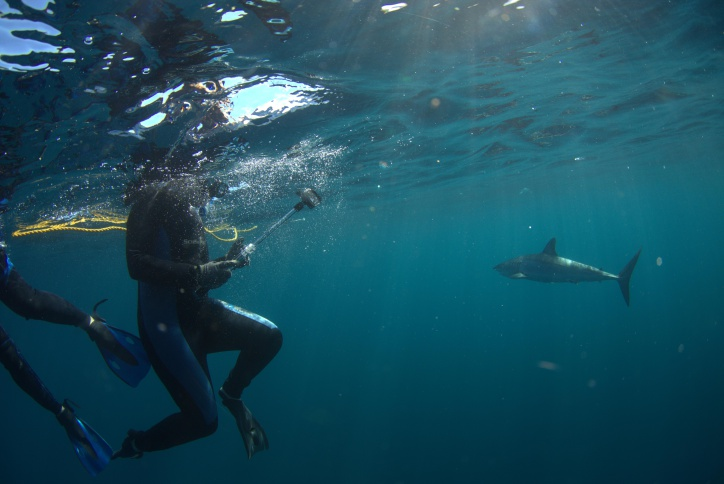Mako: (481, 233, 647, 314)
